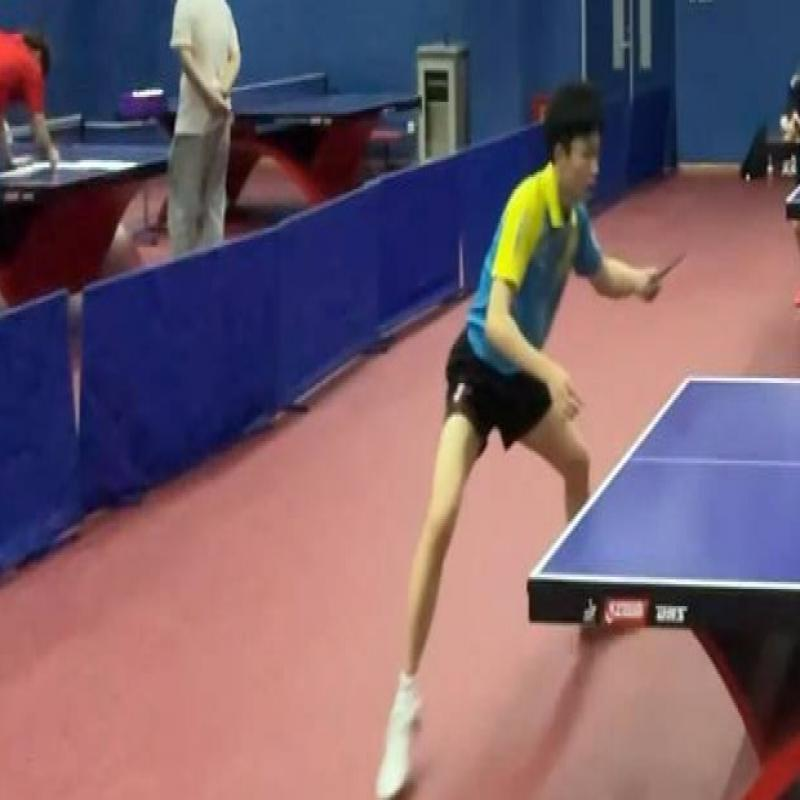bats: (638, 240, 704, 303)
